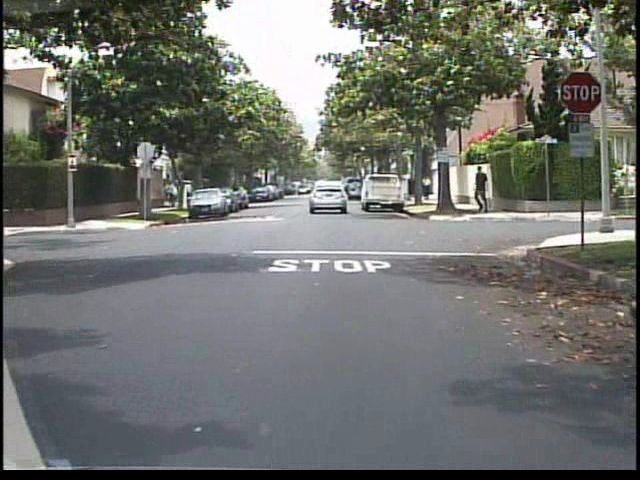person: (469, 163, 495, 219), (418, 171, 435, 204), (163, 179, 181, 208)
